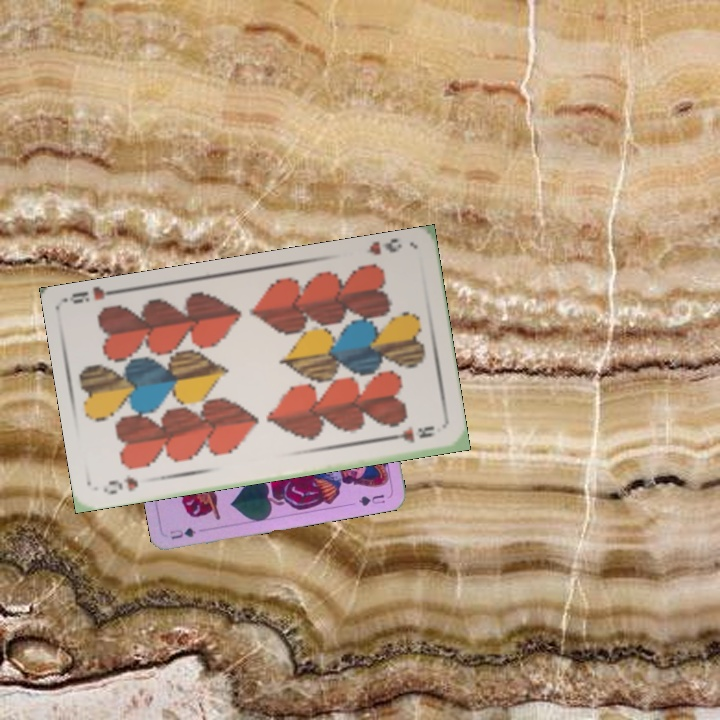GU: (166, 524, 198, 542)
H9: (99, 473, 141, 497), (364, 237, 404, 258)
